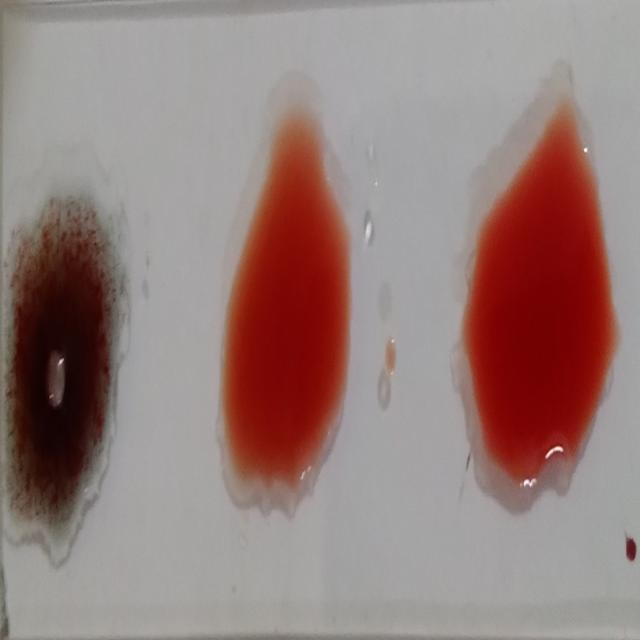A: (5, 204, 126, 564)
